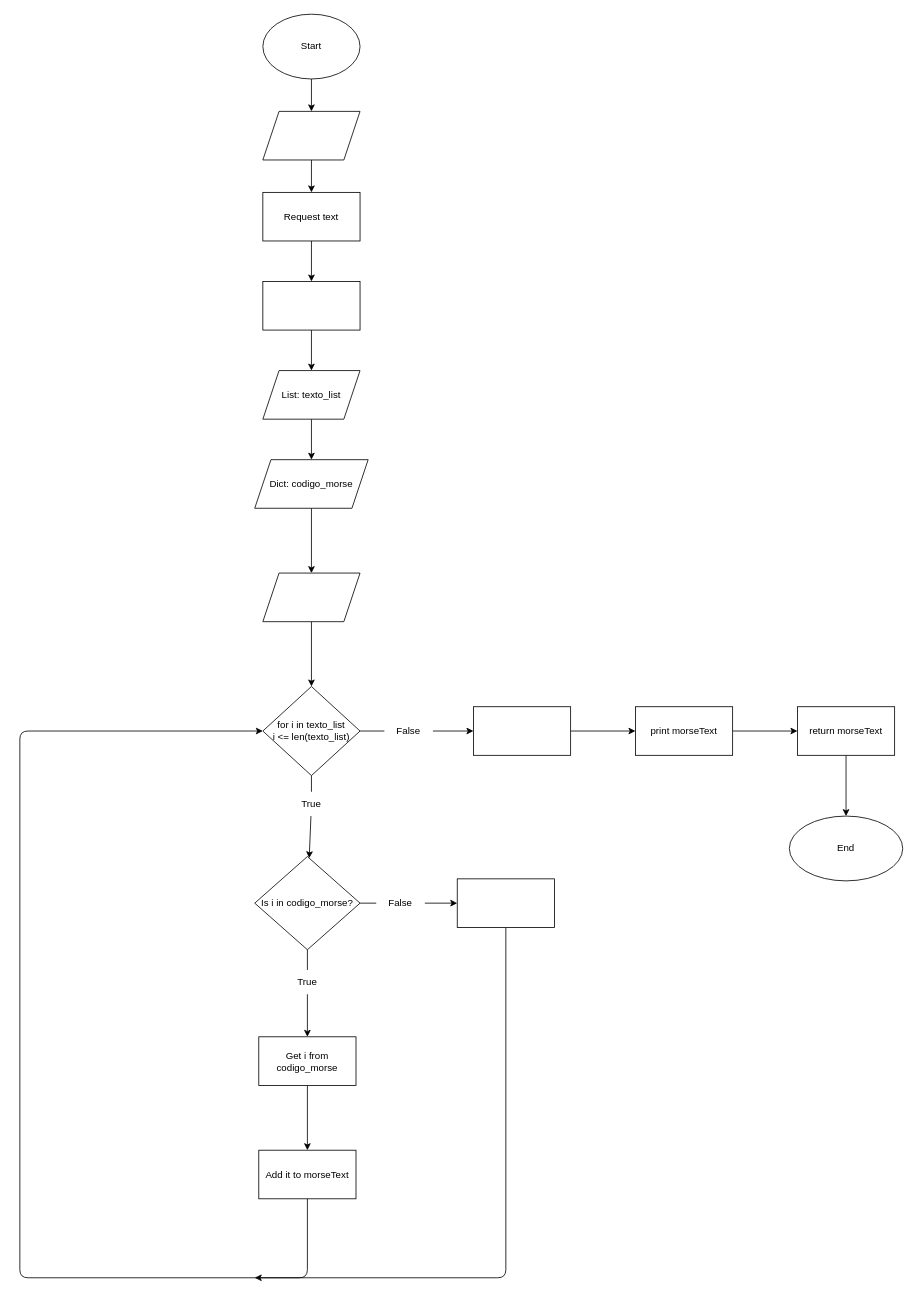
Image size: 917x1298. Some labels were removed from this diagram. The centre of each missing label's shape, as x and y in pixels:
Add to morseText "?": pixel 505 902
Convert text to a list: pixel 311 305
Print original text: pixel 522 730
string: morseText: pixel 311 597
String: Text: pixel 311 135
